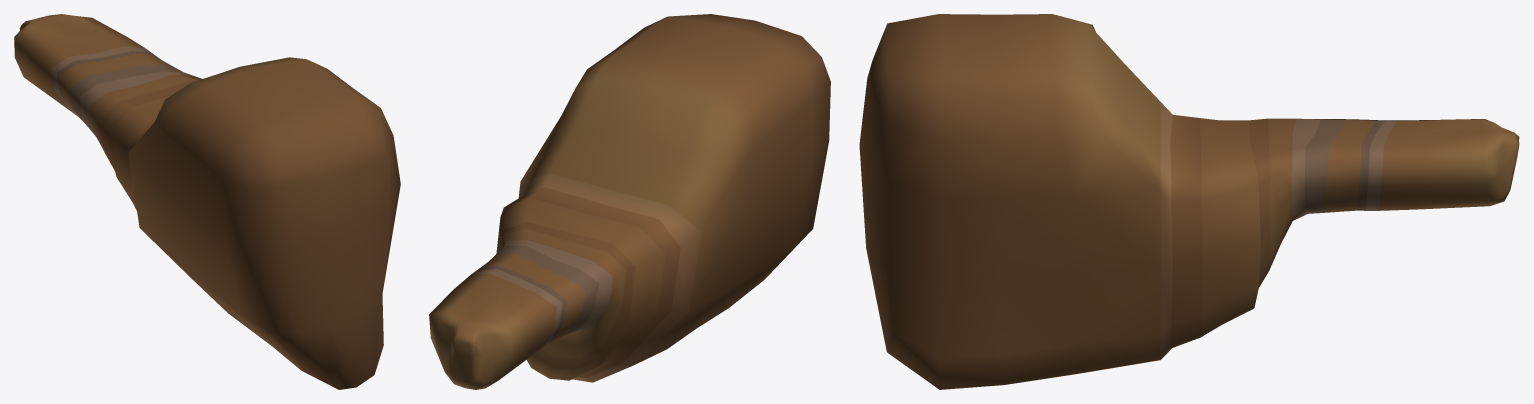
The model's file is SandstoneMesa.003.glb.
3 renders of one model, left to right at view 1: azimuth 30°, elevation 25°; view 2: azimuth 150°, elevation 25°; view 3: azimuth 270°, elevation 25°, orthographic. The views are drawn at different scales.
Visible parts, largest first — view 1: SandstoneMesa.003; view 2: SandstoneMesa.003; view 3: SandstoneMesa.003.
Boxes of the visible parts, left/top/right/bottom form: SandstoneMesa.003: left=14, top=14, right=400, bottom=389; SandstoneMesa.003: left=429, top=14, right=830, bottom=389; SandstoneMesa.003: left=859, top=14, right=1519, bottom=389.
Bounding box in the file's own units: 1915 × 3005 × 5481.
